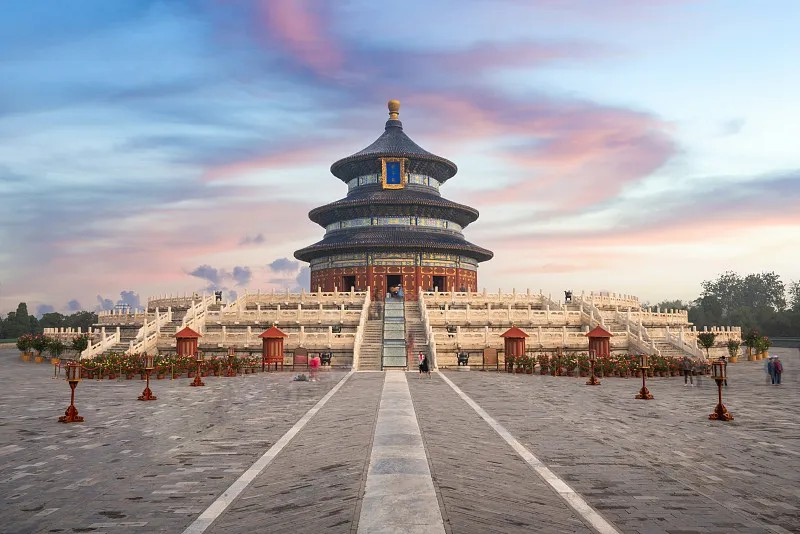Heaven: (291, 99, 495, 301)
